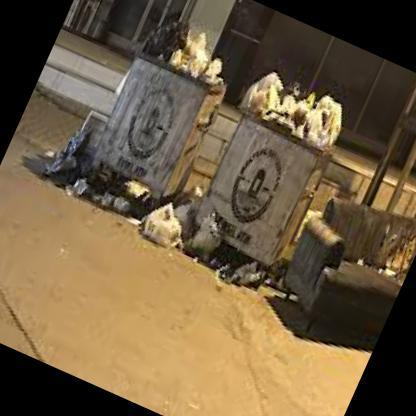Garbage: (128, 1, 248, 90), (240, 66, 354, 150), (70, 172, 190, 250), (36, 118, 95, 190)
